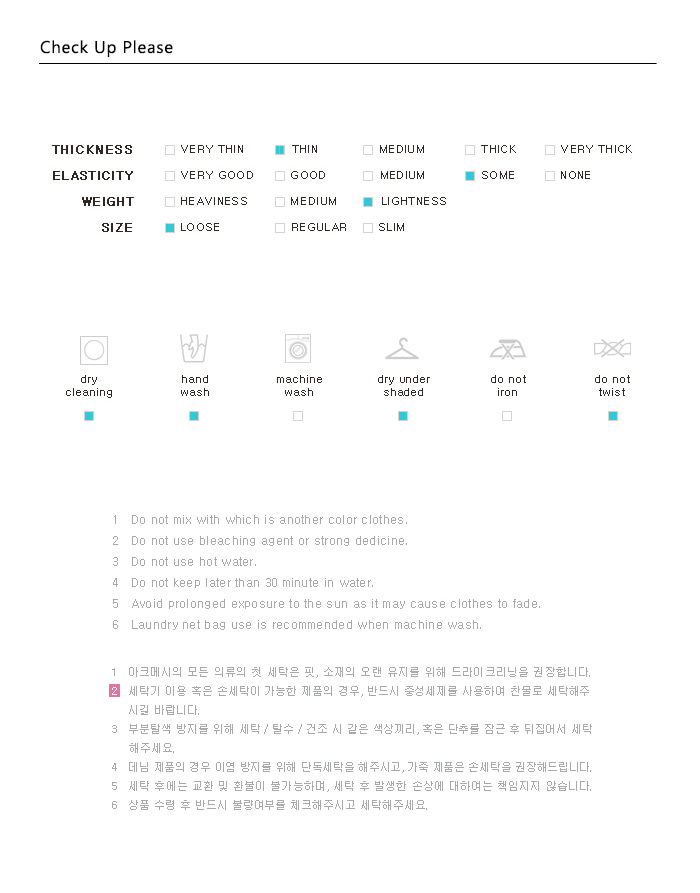do_not_iron: (489, 335, 525, 363)
